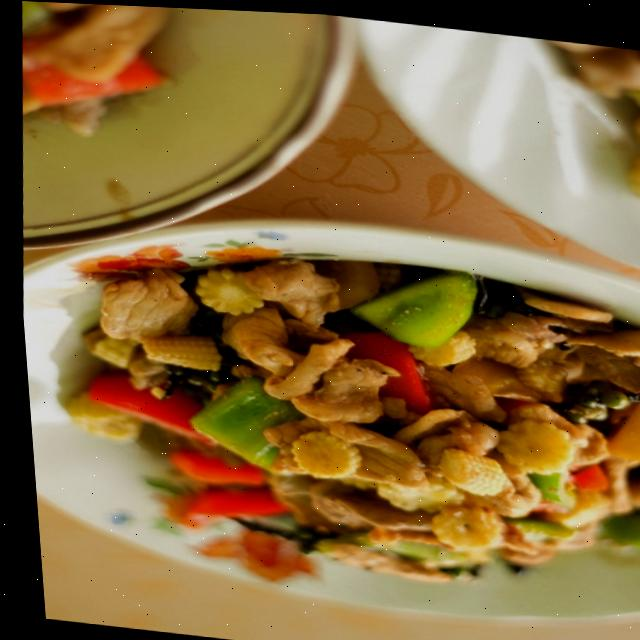蔬菜料理: (12, 199, 640, 638)
